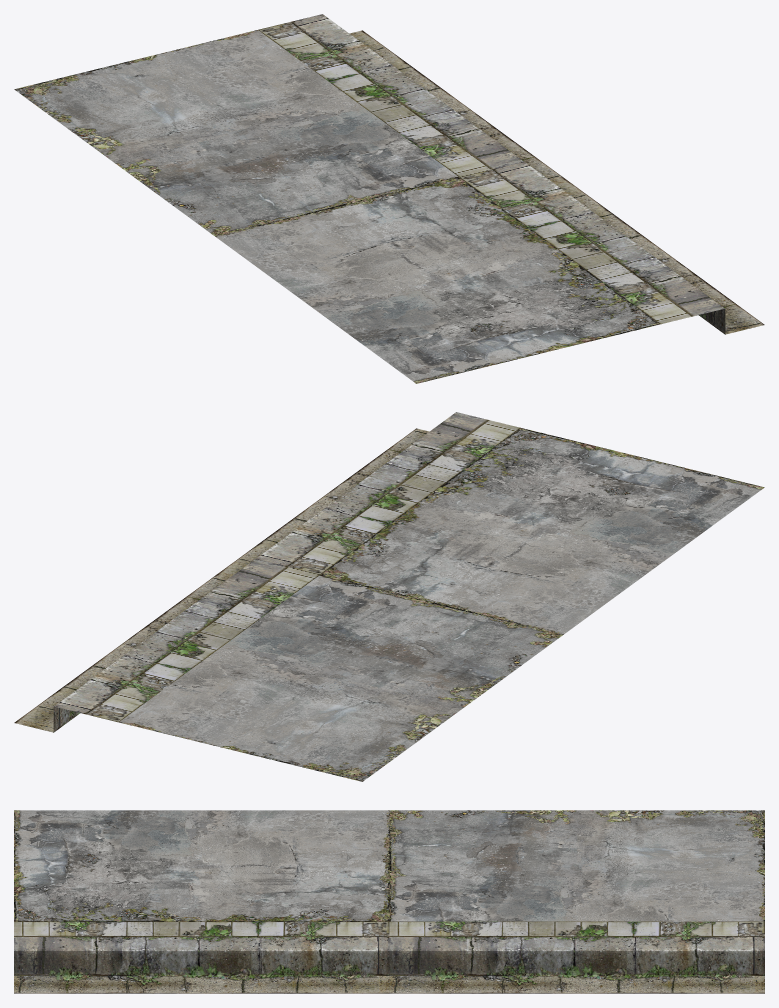
The model's file is Sidewalk2_LongC.FBX.
3 views of the same model, one above another, from view 1: azimuth 30°, elevation 25°; view 2: azimuth 150°, elevation 25°; view 3: azimuth 270°, elevation 25° (orthographic). The views are drawn at different scales.
Parts seen in each view (by area): view 1: Sidewalk2_LongC; view 2: Sidewalk2_LongC; view 3: Sidewalk2_LongC.
Boxes of the visible parts, x1,y1,x2,y2 form: Sidewalk2_LongC: (14, 14, 764, 383); Sidewalk2_LongC: (14, 412, 764, 781); Sidewalk2_LongC: (14, 810, 764, 993).
Size of the model in its own units: 350 by 25 by 700.
Materials: 2 (2 with a texture image).
